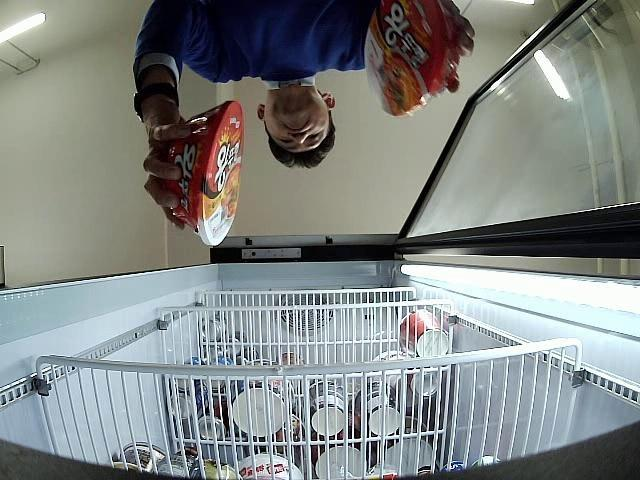10_wangTtukkeong: (167, 100, 244, 246), (365, 0, 460, 118)
